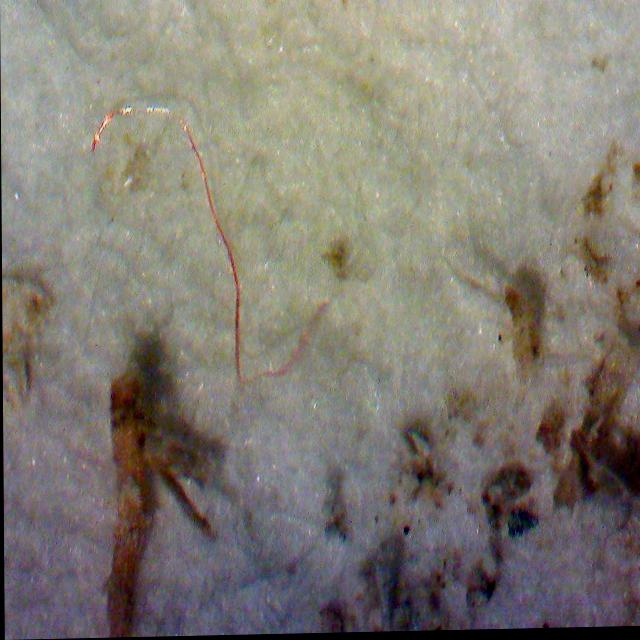microplastic: (59, 79, 347, 401)
